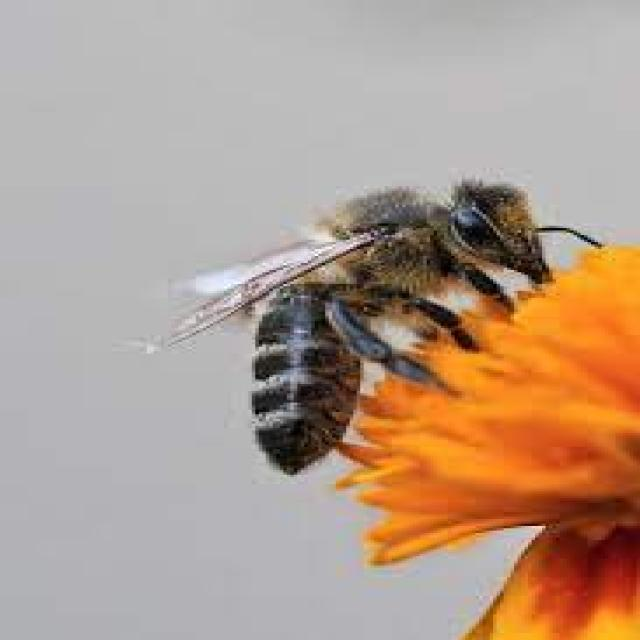Bees: (140, 178, 605, 474)
